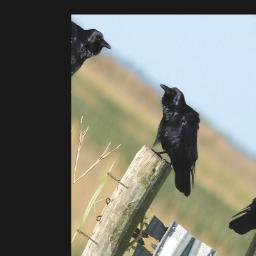Crow: (123, 78, 229, 201)
